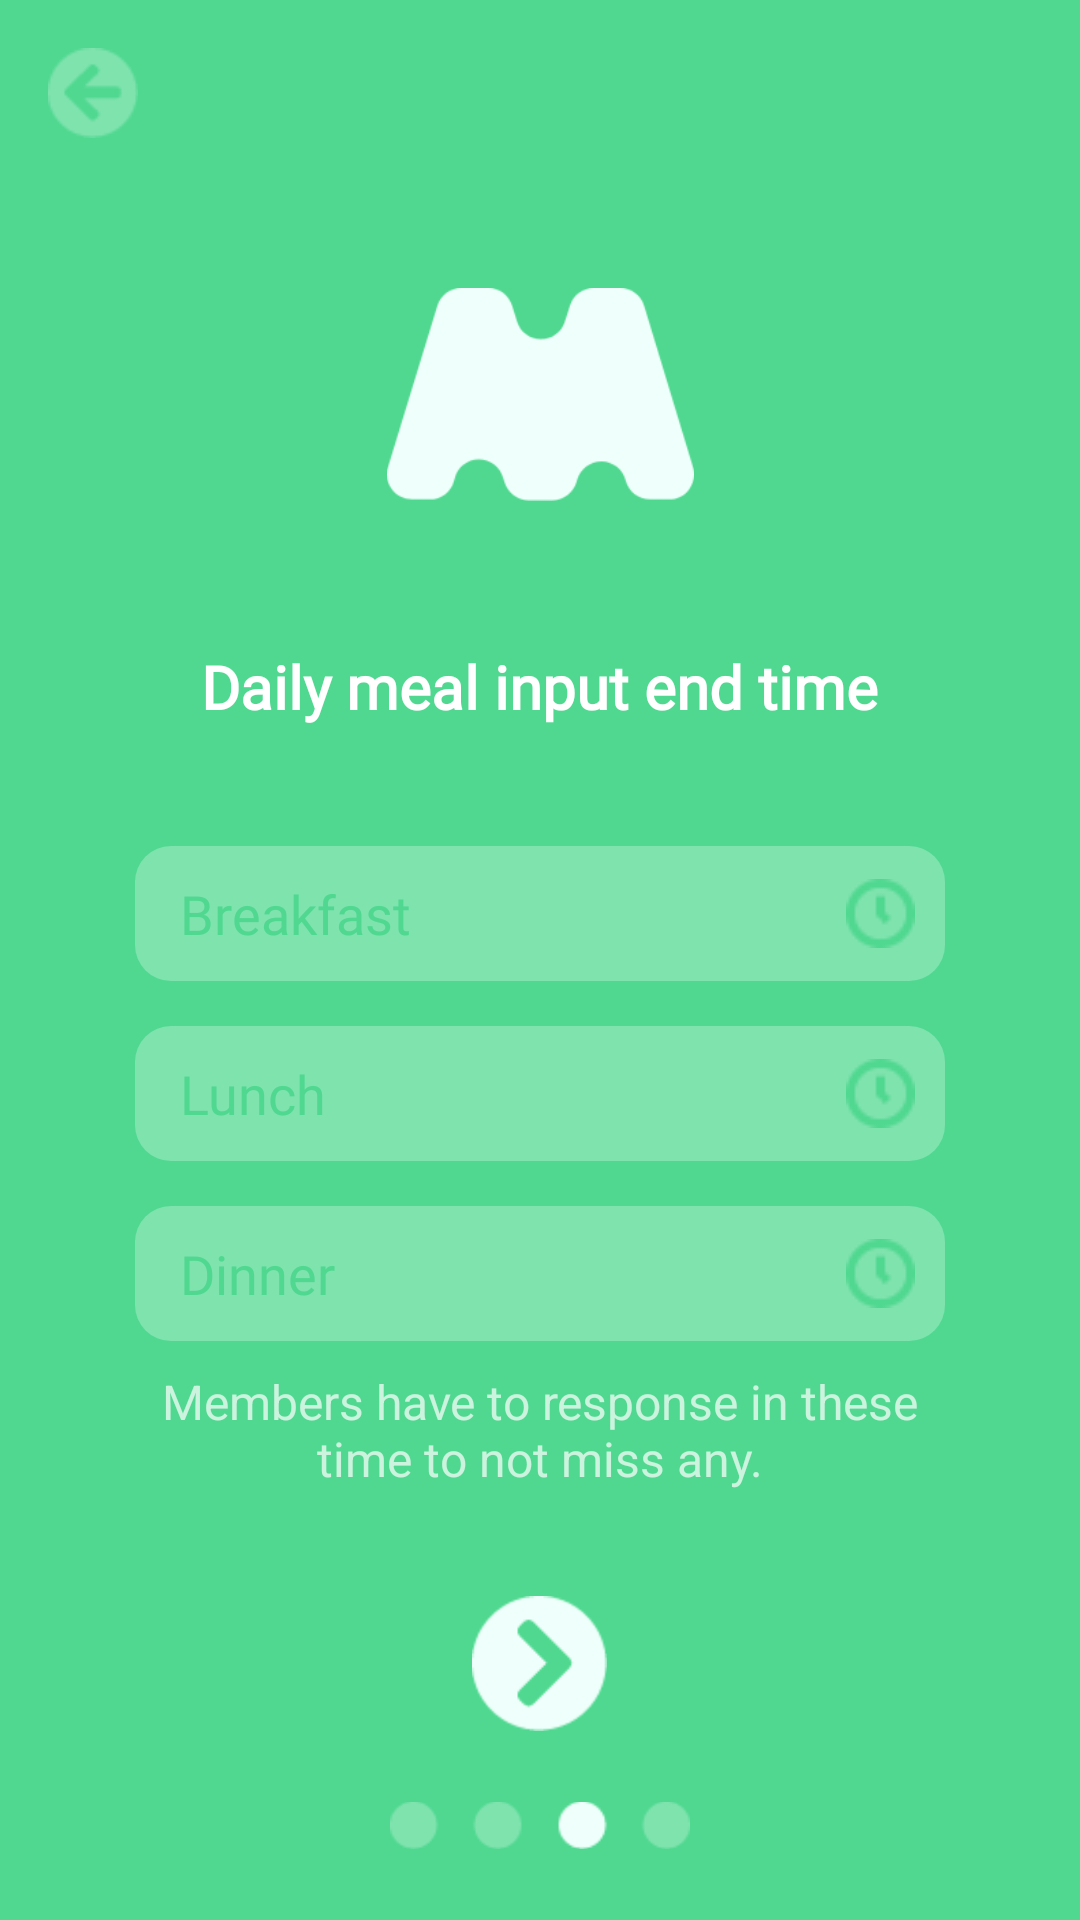

Where icons sit on this 1080 × 1920 app screen, as [x1=x1, y1=y1, x2=x2, y2=y2]:
back: [x1=48, y1=48, x2=137, y2=137]
next: [x1=472, y1=1596, x2=607, y2=1731]
